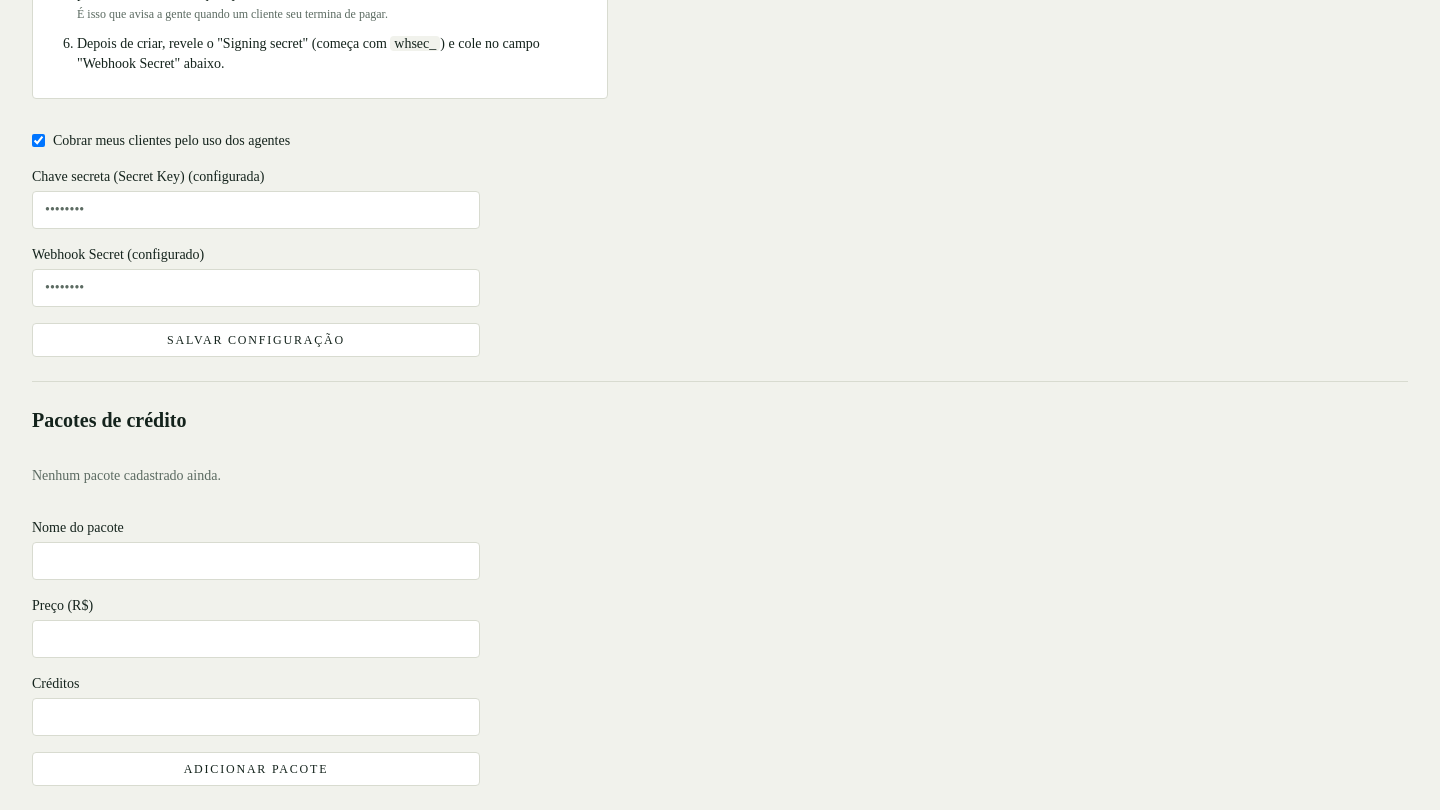
Scenario: EndCustomerBillingPanel › mostra erro quando a criação de pacote falha
This screenshot has width=1440, height=810.
(page scrolled)
In the field labelled "Nome do pacote": (256, 560) [32,542,480,580], type "Growth"
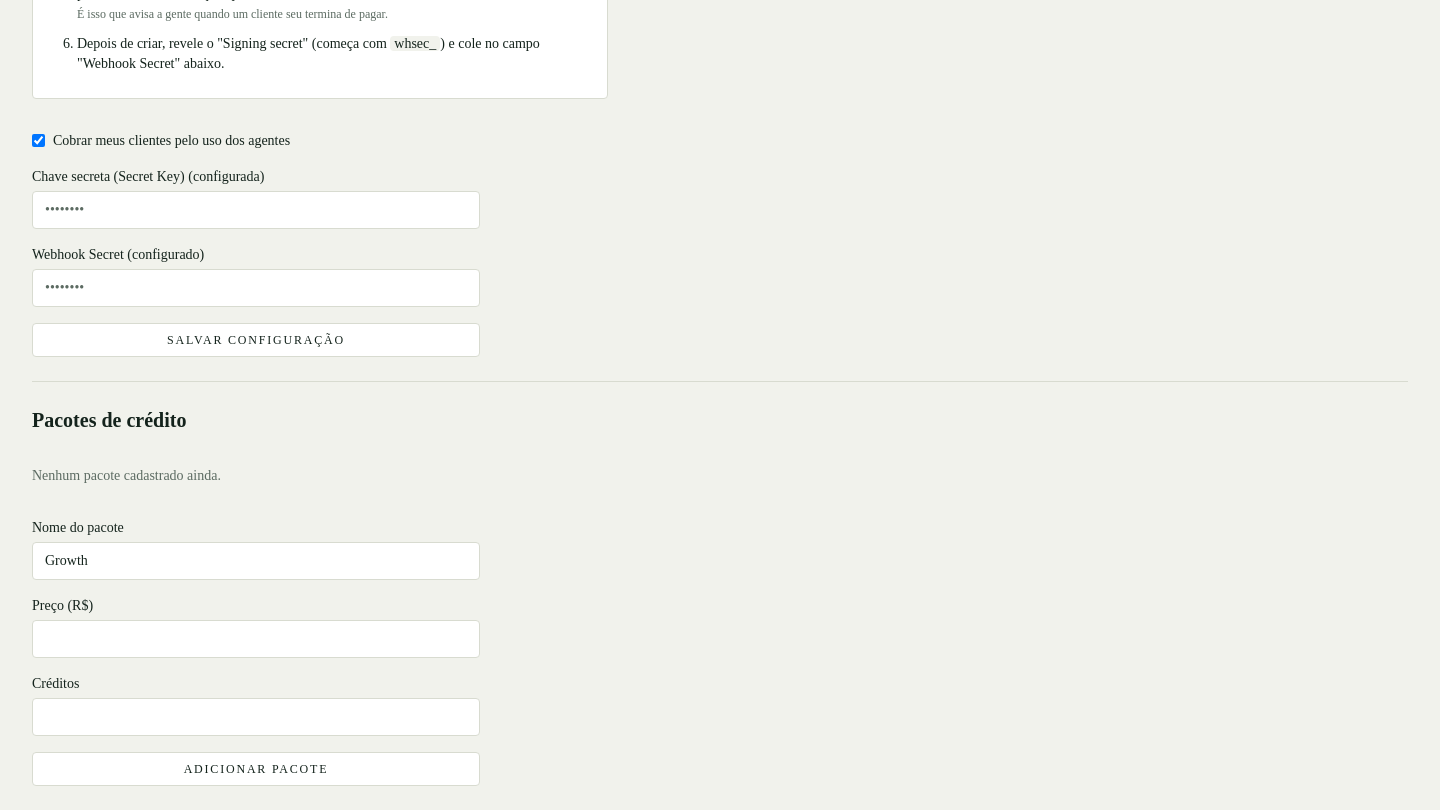
In the field labelled "Preço (R$)": (256, 638) [32,620,480,658], type "99.90"
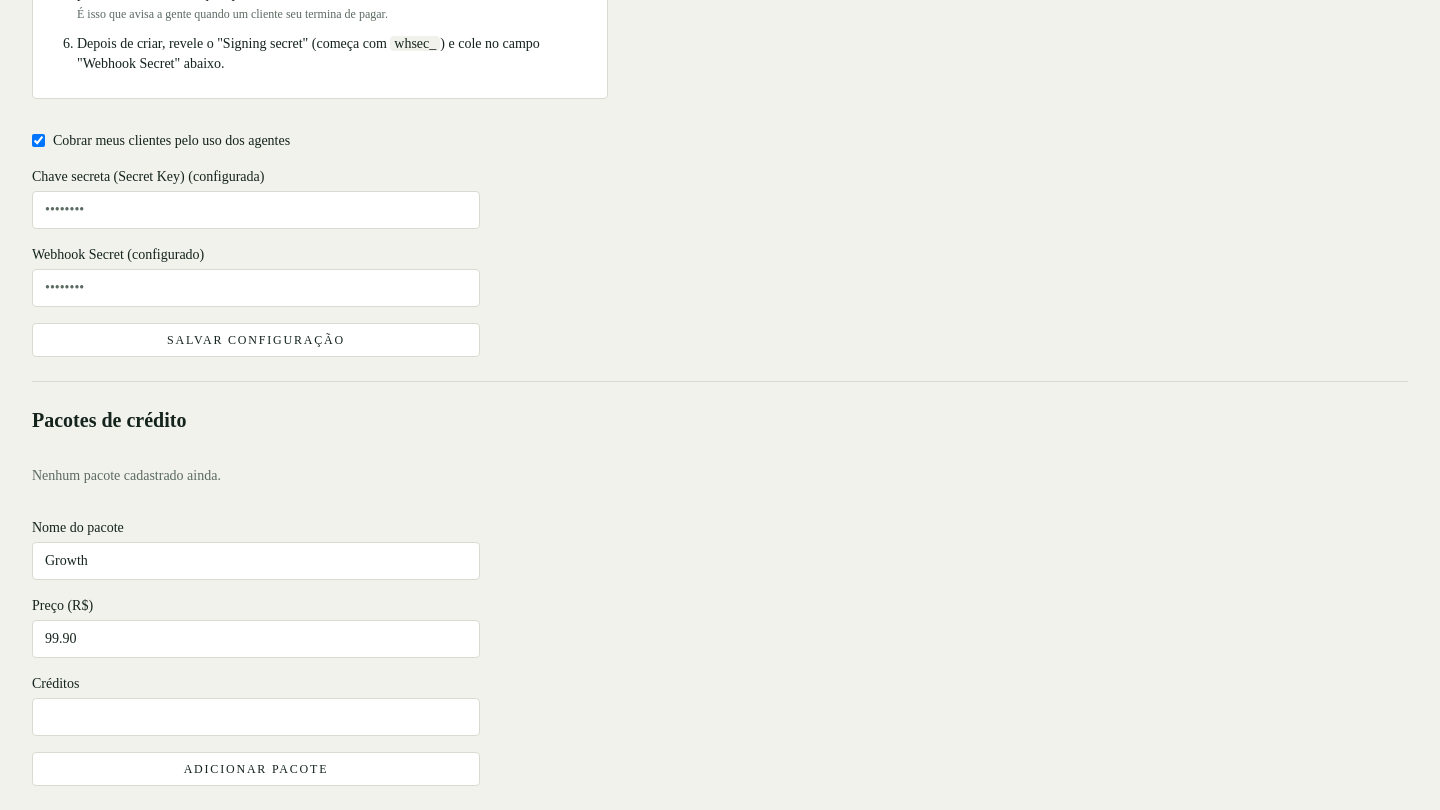
In the number field labelled "Créditos": (256, 716) [32,698,480,736], type "1000"
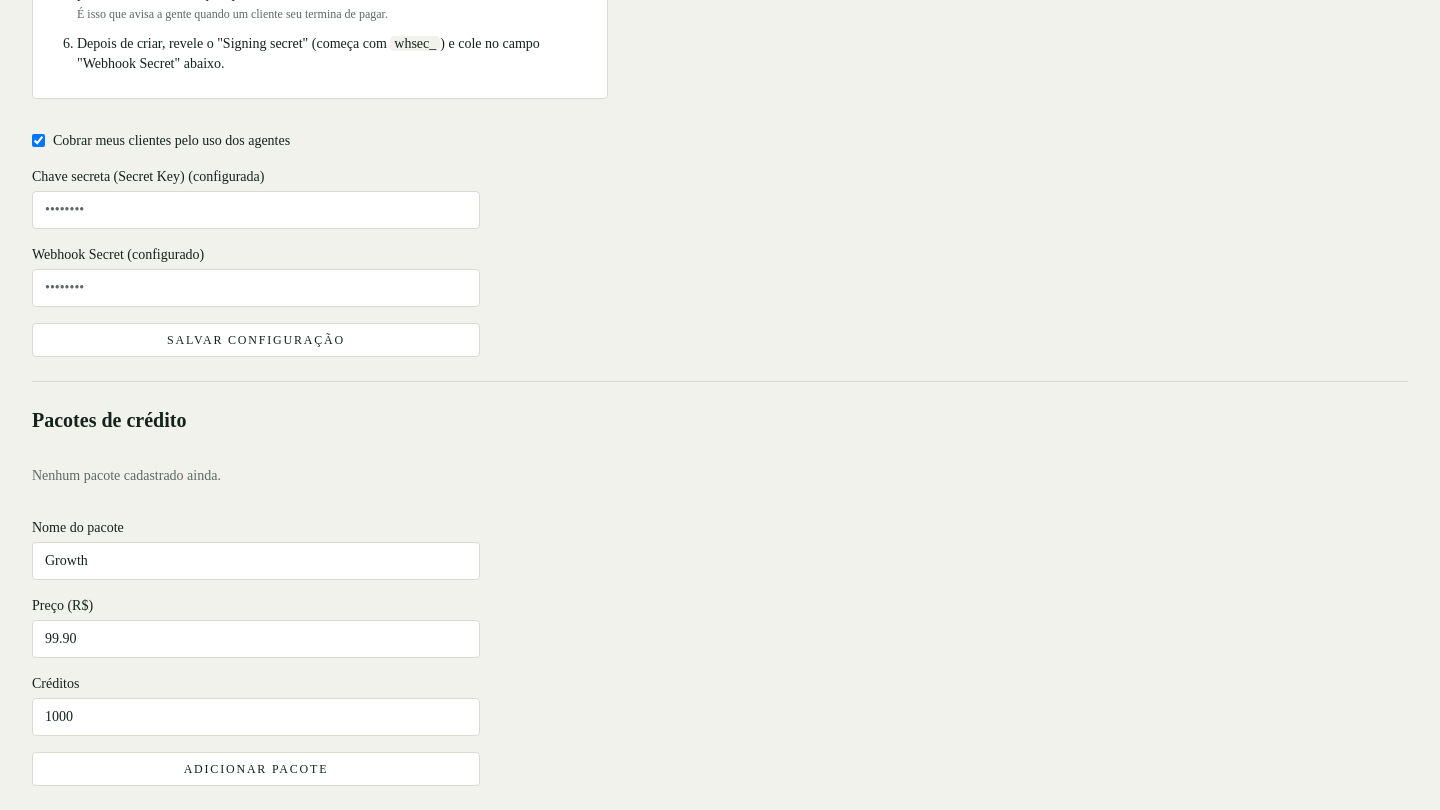
Click the button "Adicionar pacote": (256, 768) [32,752,480,786]
(page scrolled)
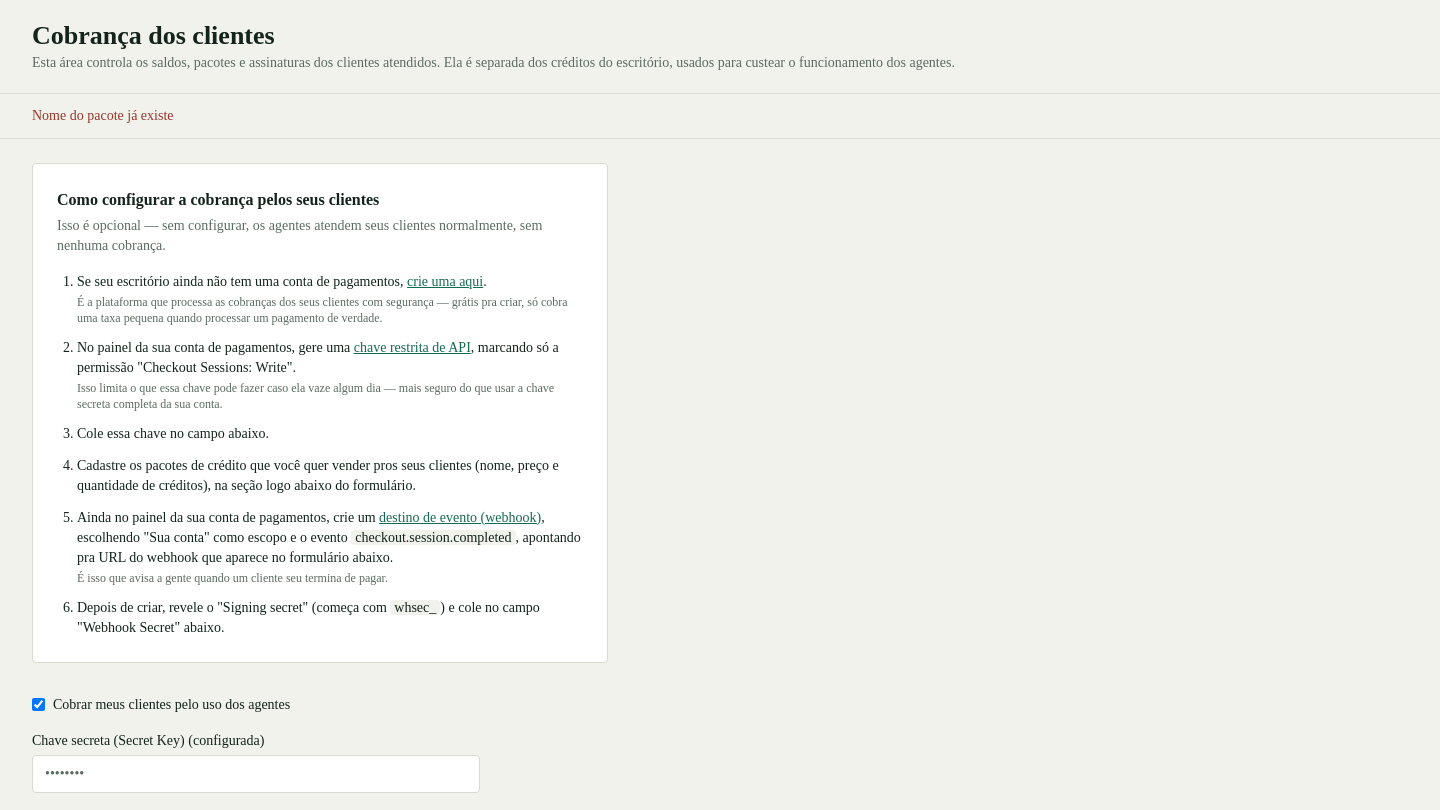
Expected: the text "Growth" is not shown
Expected: the text "Nome do pacote já existe" is shown, [0,94,1439,138]
